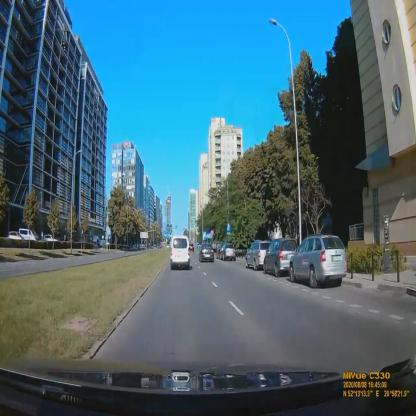cars: (290, 235, 347, 287), (264, 239, 298, 278), (246, 240, 270, 270), (171, 236, 190, 268), (219, 243, 236, 261), (199, 244, 214, 262), (190, 244, 194, 252)
